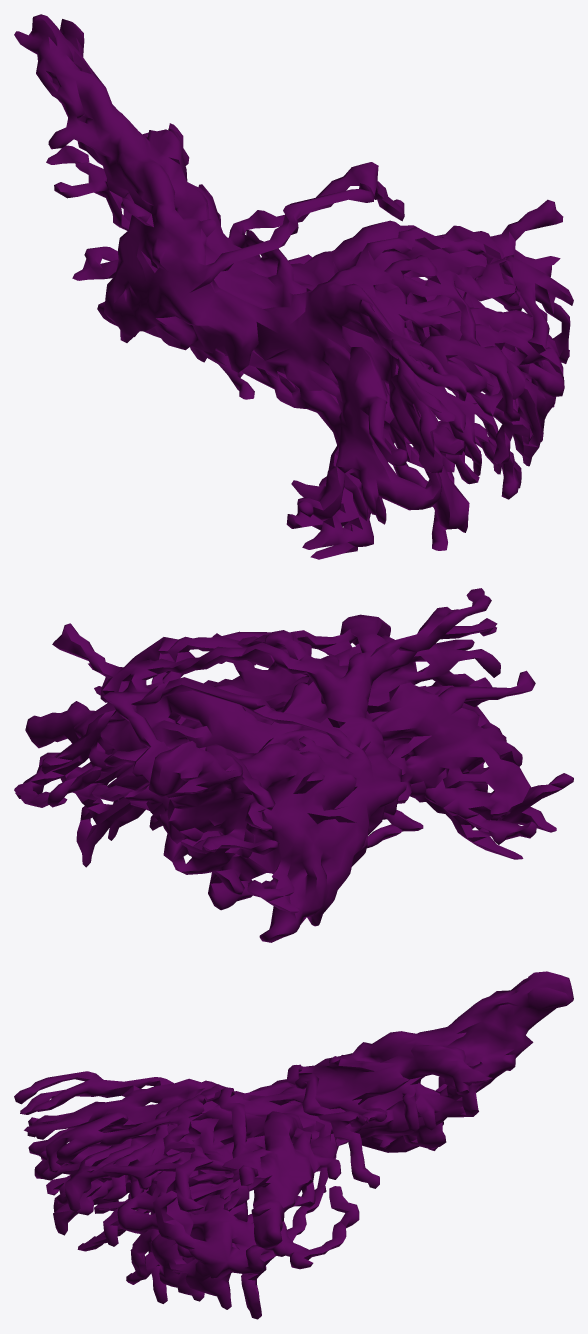
Rendered from Pyramidal_tract.obj.
The picture shows the model from 3 angles, top to bottom: view 1: azimuth 30°, elevation 25°; view 2: azimuth 150°, elevation 25°; view 3: azimuth 270°, elevation 25°; orthographic projection. The views are drawn at different scales.
Visible parts, largest first — view 1: grp1; view 2: grp1; view 3: grp1.
Part boxes in pixels (<box>): grp1: <box>14,14,573,559</box>; grp1: <box>14,588,573,942</box>; grp1: <box>14,971,573,1319</box>.
Bounding box in the file's own units: 83.73 × 69.88 × 141.
